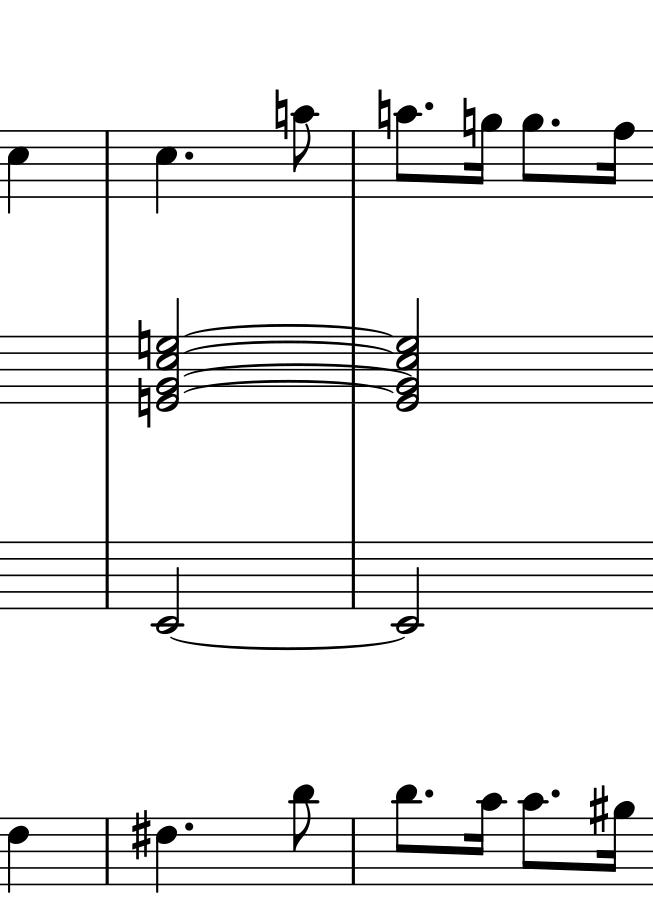16_10: (471, 792, 503, 887)
16_8: (599, 122, 636, 197)
16_9: (470, 112, 501, 201), (602, 800, 633, 887)
2_-2: (394, 539, 422, 635), (154, 539, 182, 635)
2_4th: (154, 297, 180, 413), (396, 298, 422, 413)
4_5: (5, 128, 29, 216), (154, 130, 179, 213)
4_6: (6, 816, 30, 893), (155, 815, 178, 894)
8_10: (292, 104, 319, 201), (519, 792, 544, 886), (394, 106, 418, 200)
8_11: (291, 782, 317, 889), (394, 782, 420, 888)
8_9: (520, 114, 544, 199)
Natural: (376, 87, 392, 142), (461, 96, 477, 151), (274, 88, 289, 143), (137, 374, 152, 428), (136, 317, 151, 370)
Sharp: (587, 784, 609, 837), (130, 809, 151, 862)
Single_barline: (99, 131, 115, 197), (99, 336, 115, 402), (345, 131, 361, 196), (100, 819, 115, 885), (346, 542, 361, 607), (100, 542, 114, 609), (346, 820, 361, 882)
Slur: (182, 363, 417, 376), (182, 322, 396, 336), (183, 341, 396, 354), (180, 381, 396, 392)
dot: (181, 148, 195, 163), (422, 786, 436, 801), (549, 786, 562, 802), (182, 819, 195, 833), (422, 100, 435, 113), (549, 116, 561, 130)
